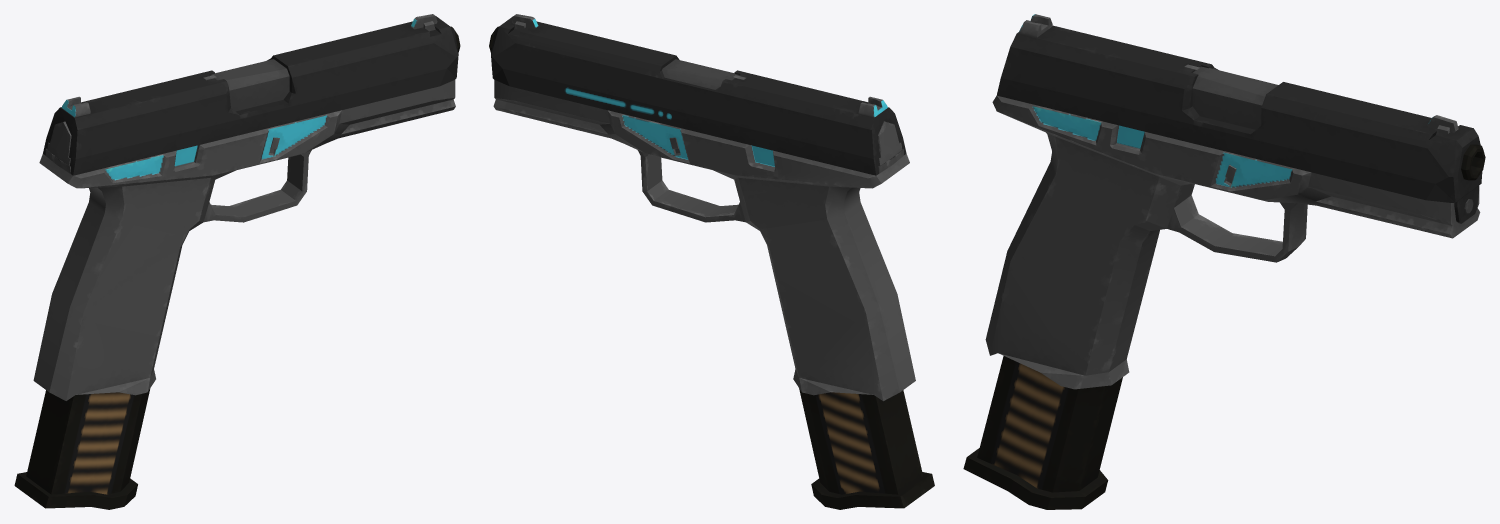
File: Pistol 2.fbx
3 renders of one model, left to right at view 1: azimuth 30°, elevation 25°; view 2: azimuth 150°, elevation 25°; view 3: azimuth 330°, elevation 25°, orthographic. The views are drawn at different scales.
Parts seen in each view (by area): view 1: Pistol 2; view 2: Pistol 2; view 3: Pistol 2.
Part boxes in pixels (x1,y1,x2,y2): Pistol 2: (14,14,460,509); Pistol 2: (489,14,934,509); Pistol 2: (963,14,1485,509).
Bounding box in the file's own units: 16.83 × 15.18 × 2.69.
